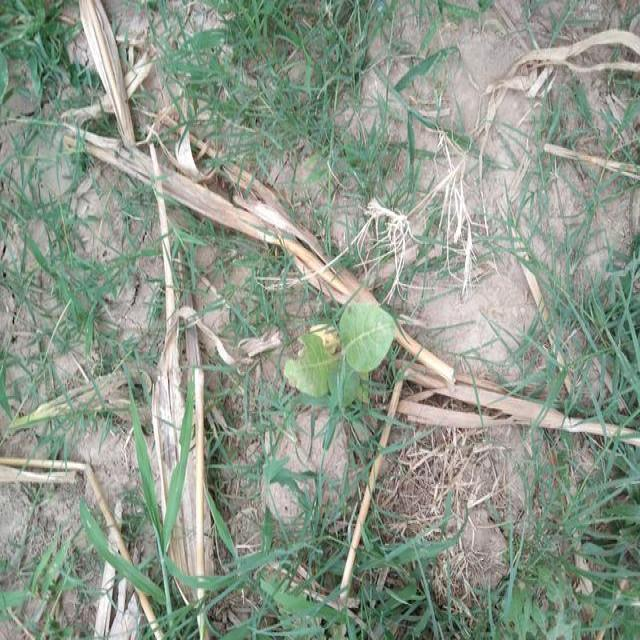crop: (267, 285, 408, 404)
